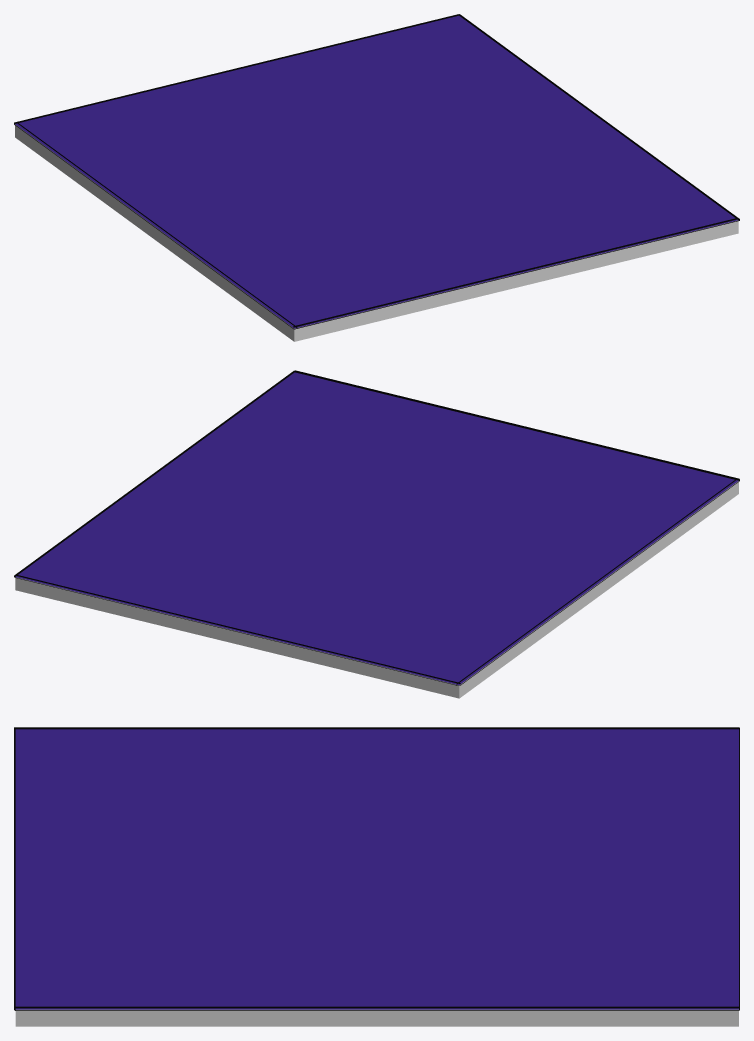
Rendered from buildingRoof.fbx.
The picture shows the model from 3 angles, top to bottom: view 1: azimuth 30°, elevation 25°; view 2: azimuth 150°, elevation 25°; view 3: azimuth 270°, elevation 25°; orthographic projection. The views are drawn at different scales.
Parts seen in each view (by area): view 1: Cube; view 2: Cube; view 3: Cube.
Boxes of the visible parts, bbox=[...] form: Cube: bbox=[14, 14, 739, 341]; Cube: bbox=[14, 370, 739, 698]; Cube: bbox=[14, 727, 739, 1026].
Bounding box in the file's own units: 7016 × 223 × 7649.
